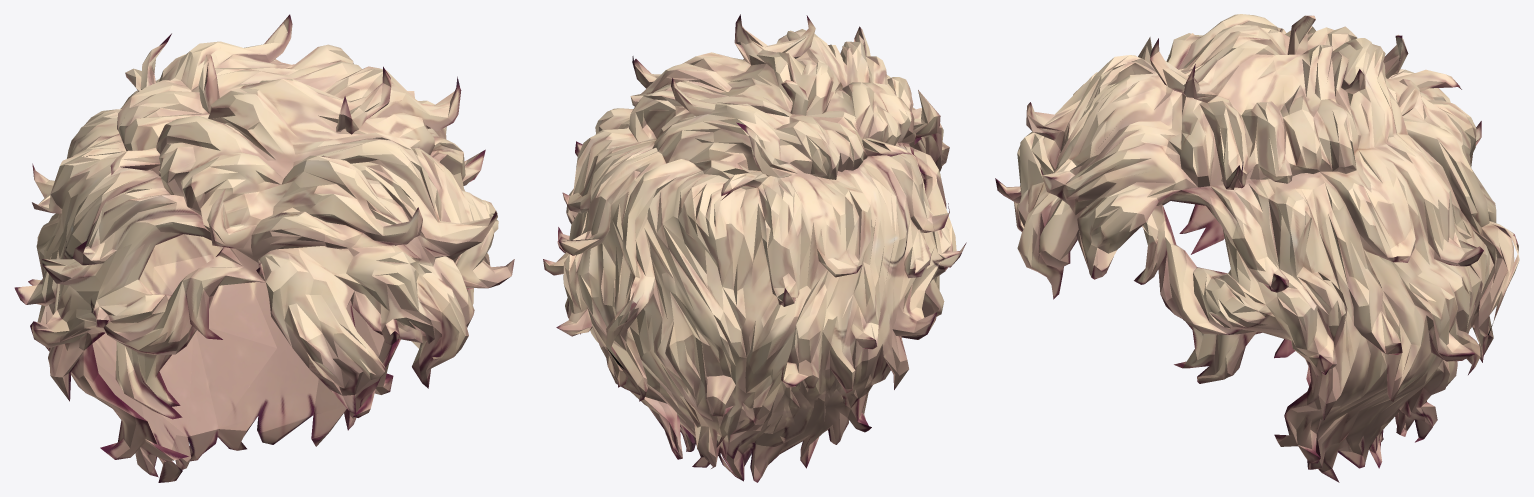
Rendered from fennal_m-boucles.glb.
The picture shows the model from 3 angles, left to right: view 1: azimuth 30°, elevation 25°; view 2: azimuth 150°, elevation 25°; view 3: azimuth 270°, elevation 25°; orthographic projection. The views are drawn at different scales.
Visible parts, largest first — view 1: geometry_0; view 2: geometry_0; view 3: geometry_0.
Boxes of the visible parts, bbox=[...] form: geometry_0: bbox=[14, 14, 514, 482]; geometry_0: bbox=[543, 14, 966, 482]; geometry_0: bbox=[995, 14, 1519, 482].
Size of the model in its own units: 1.73 by 1.69 by 1.89.
Materials: 1 (1 with a texture image).
